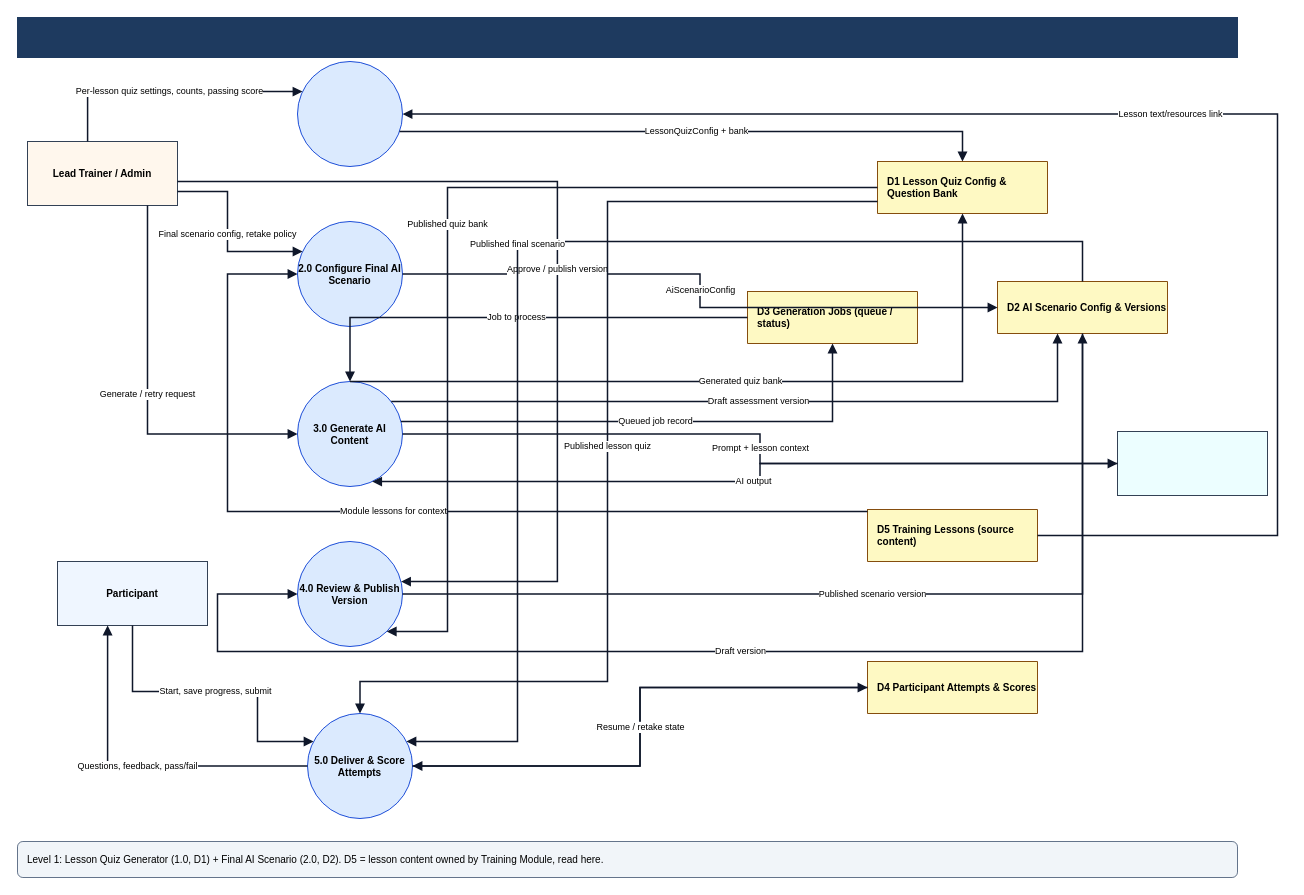
This 1304x895 diagram has some shape labels left out. Each missing label, with the centre of its shape:
1.0 Configure Lesson Quiz: point (349, 113)
DFD Level 1 — AI Scenario Training (Decomposition): point (627, 37)
Google Gemini API: point (1192, 463)
